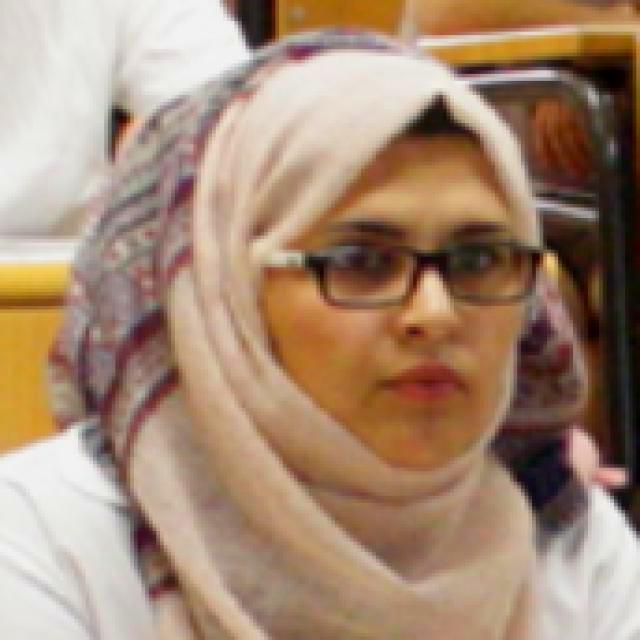Looking forward: (288, 132, 538, 466)
